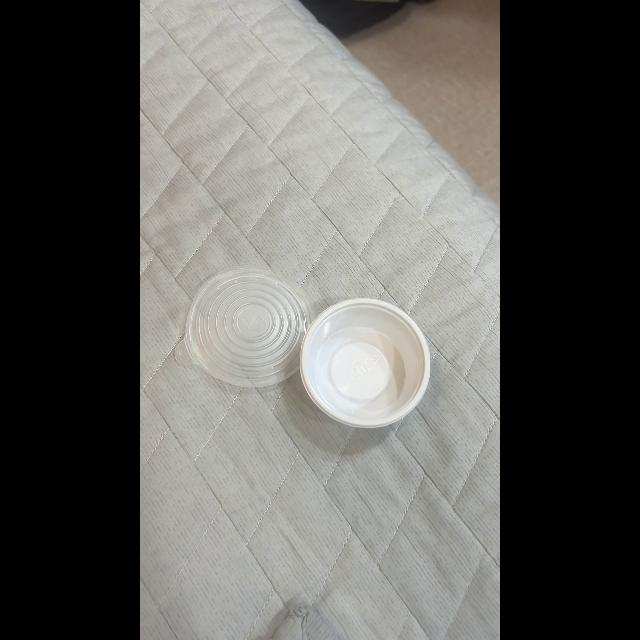clean: (299, 298, 431, 424), (185, 267, 313, 385)
